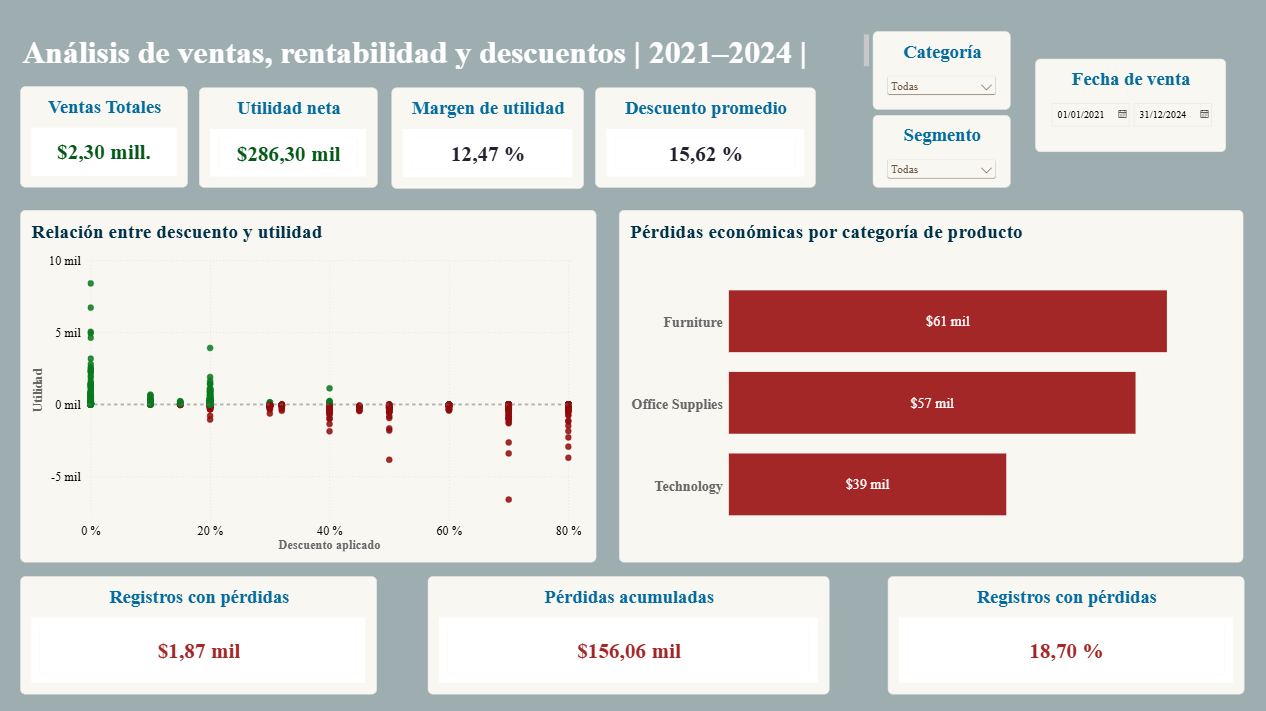

The page's visual inventory and layout, read from the dashboard file:
{"tool":"powerbi","page":{"name":"Resumen General","canvas":[1920,1080],"ordinal":0},"visuals":[{"type":"cardVisual","title":"Ventas Totales","fields":{"Data":["Medidas.Ventas Totales"]},"box":[31.5,130.3,253.1,152.8],"z":0},{"type":"cardVisual","title":"Utilidad neta","fields":{"Data":["Medidas.Ganancia Total"]},"box":[301,131.8,269.6,151.3],"z":1000},{"type":"cardVisual","title":"Margen de utilidad","fields":{"Data":["Medidas.Margen de Rentabilidad"]},"box":[591.6,131.8,290.5,152.8],"z":2000},{"type":"cardVisual","title":"Descuento promedio","fields":{"Data":["Medidas.Descuento Promedio"]},"box":[900.1,131.8,332.5,151.3],"z":3000},{"type":"scatterChart","title":"Relación entre descuento y utilidad","fields":{"Category":["FactVentas.Row ID"],"X":["Avg(FactVentas.Discount)"],"Y":["Sum(FactVentas.Profit)"]},"box":[31.5,316.3,869.3,532.1],"z":4000},{"type":"clusteredBarChart","title":"Pérdidas económicas por categoría de producto","fields":{"Category":["DimProducto.Category"],"Y":["Medidas.Monto Total de Pérdidas"]},"box":[936.8,316.3,942.8,532.1],"z":5000},{"type":"cardVisual","title":"Registros con pérdidas","fields":{"Data":["Medidas.Ventas con Pérdida"]},"box":[31.9,869.9,538.7,178.2],"z":6000},{"type":"cardVisual","title":"Pérdidas acumuladas","fields":{"Data":["Medidas.Monto Total de Pérdidas"]},"box":[647.7,869.9,606.5,178.2],"z":7000},{"type":"cardVisual","title":"Registros con pérdidas","fields":{"Data":["Medidas.Porcentaje de Ventas con Pérdida"]},"box":[1340.7,869.9,538.7,178.2],"z":8000},{"type":"slicer","title":"Categoría","fields":{"Values":["DimProducto.Category"]},"box":[1319.4,46.4,208.3,118.4],"z":9000},{"type":"slicer","title":"Segmento","fields":{"Values":["DimCliente.Segment"]},"box":[1319.4,173.7,208.2,109.3],"z":10000},{"type":"slicer","title":"Fecha de venta","fields":{"Values":["DimFecha.Date"]},"box":[1563.6,88.4,287.8,140.9],"z":11000},{"type":"textbox","box":[30.8,47.1,1288.5,61.5],"z":12000}]}

Visuals, with their boxes in screenshot pixels (x1, y1, x2, y2), scaled from the page's 1920x1080 canvas onto the 1266x711 screenshot:
"Ventas Totales" cardVisual: Rect(21, 86, 188, 186)
"Utilidad neta" cardVisual: Rect(198, 87, 376, 186)
"Margen de utilidad" cardVisual: Rect(390, 87, 582, 187)
"Descuento promedio" cardVisual: Rect(594, 87, 813, 186)
"Relación entre descuento y utilidad" scatterChart: Rect(21, 208, 594, 559)
"Pérdidas económicas por categoría de producto" clusteredBarChart: Rect(618, 208, 1239, 559)
"Registros con pérdidas" cardVisual: Rect(21, 573, 376, 690)
"Pérdidas acumuladas" cardVisual: Rect(427, 573, 827, 690)
"Registros con pérdidas" cardVisual: Rect(884, 573, 1239, 690)
"Categoría" slicer: Rect(870, 31, 1007, 108)
"Segmento" slicer: Rect(870, 114, 1007, 186)
"Fecha de venta" slicer: Rect(1031, 58, 1221, 151)
textbox: Rect(20, 31, 870, 71)
